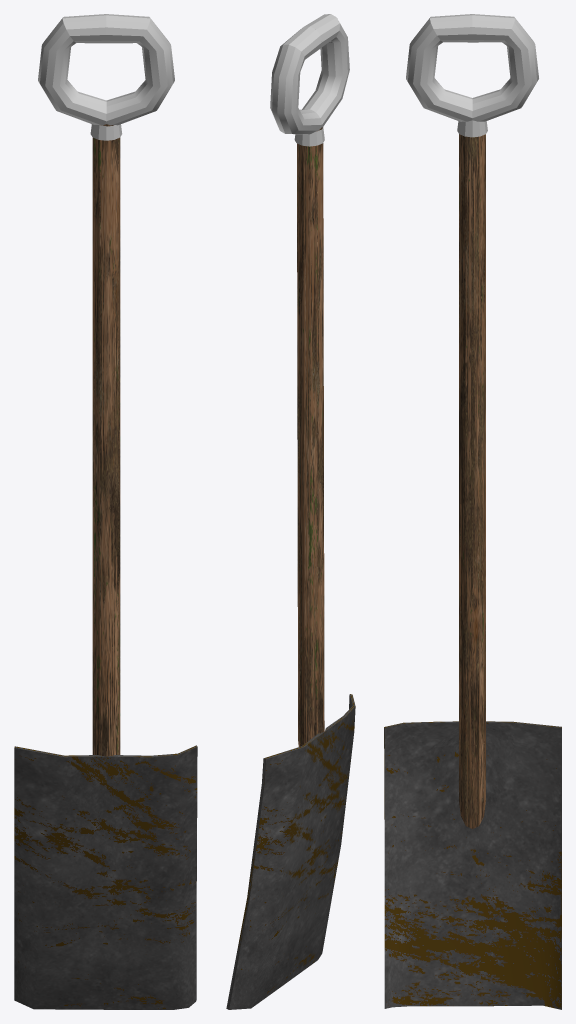
The model's file is m_spade.fbx.
The picture shows the model from 3 angles, left to right: view 1: azimuth 90°, elevation 25°; view 2: azimuth 150°, elevation 25°; view 3: azimuth 270°, elevation 25°; orthographic projection. The views are drawn at different scales.
Visible parts, largest first — view 1: spade; view 2: spade; view 3: spade.
Part boxes in pixels (box(x1,y1,x2,y2)): spade: box(14, 14, 197, 1009); spade: box(226, 14, 355, 1009); spade: box(384, 14, 561, 1009).
Size of the model in its own units: 19.45 by 330 by 54.42.
